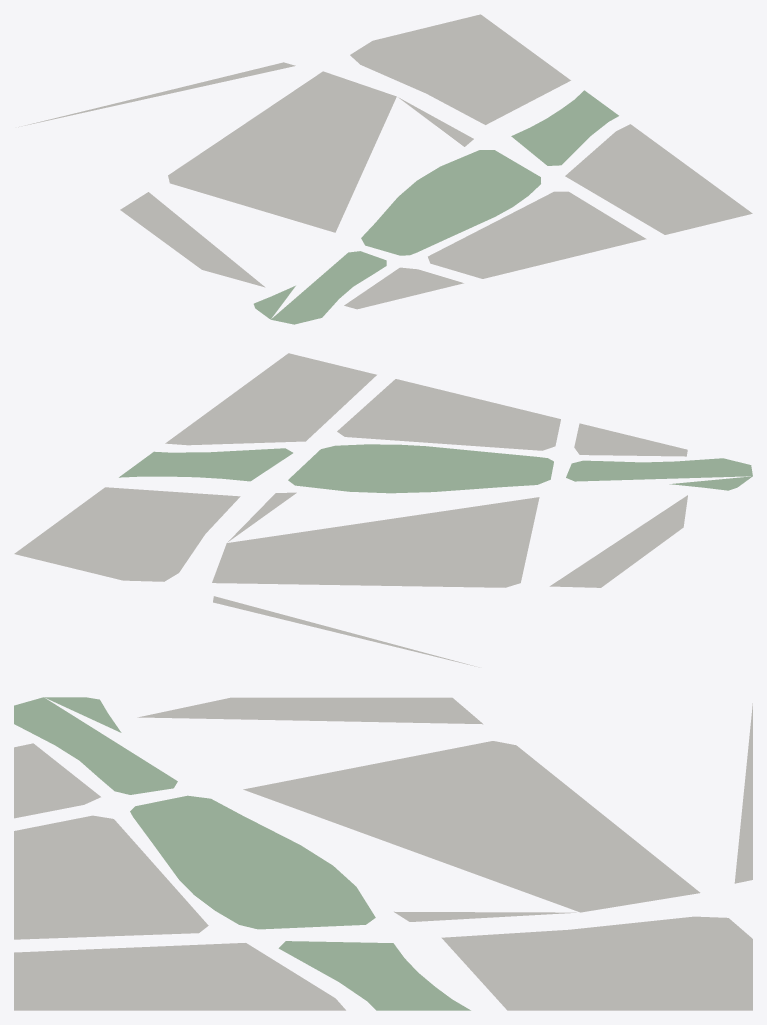
File: 92_105_mid.glb
The picture shows the model from 3 angles, top to bottom: view 1: azimuth 30°, elevation 25°; view 2: azimuth 150°, elevation 25°; view 3: azimuth 270°, elevation 25°; orthographic projection. The views are drawn at different scales.
Size of the model in its own units: 500 by 0.978 by 500.
